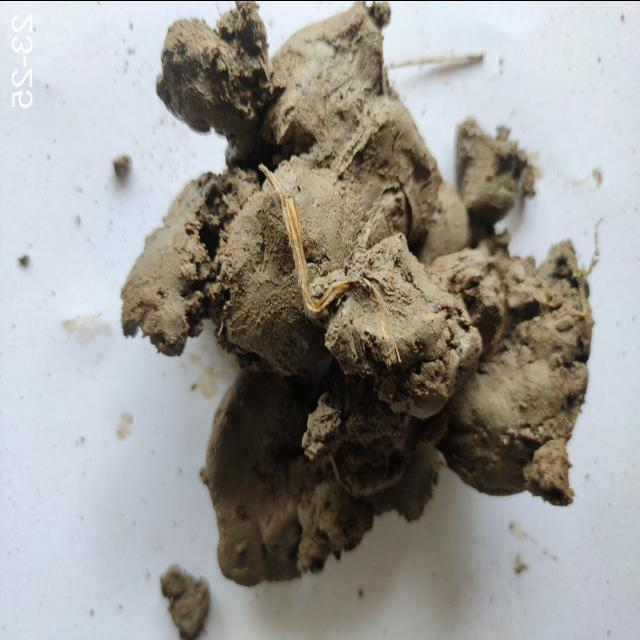soil: (240, 112, 420, 468)
